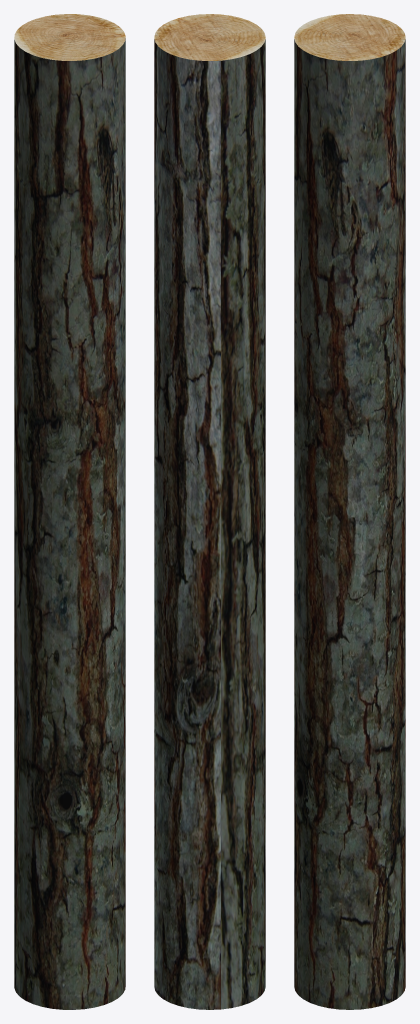
File: Tree Log.fbx
3 views of the same model, side by side, from view 1: azimuth 30°, elevation 25°; view 2: azimuth 150°, elevation 25°; view 3: azimuth 330°, elevation 25° (orthographic).
Visible parts, largest first — view 1: Cylinder.007; view 2: Cylinder.007; view 3: Cylinder.007.
Part boxes in pixels (<box>): Cylinder.007: <box>14,14,125,1009</box>; Cylinder.007: <box>154,14,265,1009</box>; Cylinder.007: <box>294,14,405,1009</box>.
Size of the model in its own units: 71.71 by 674 by 71.71.
Materials: 1 (1 with a texture image).
